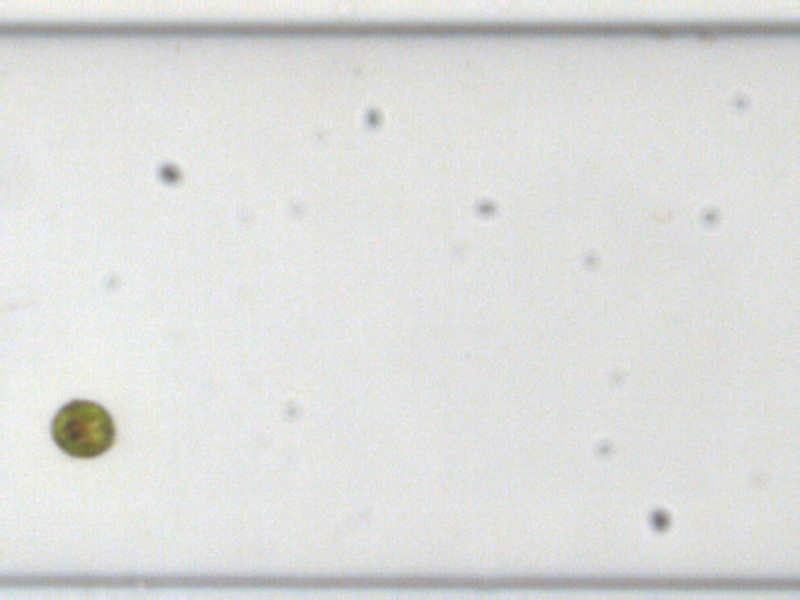Haematococcus: (44, 396, 118, 461)
